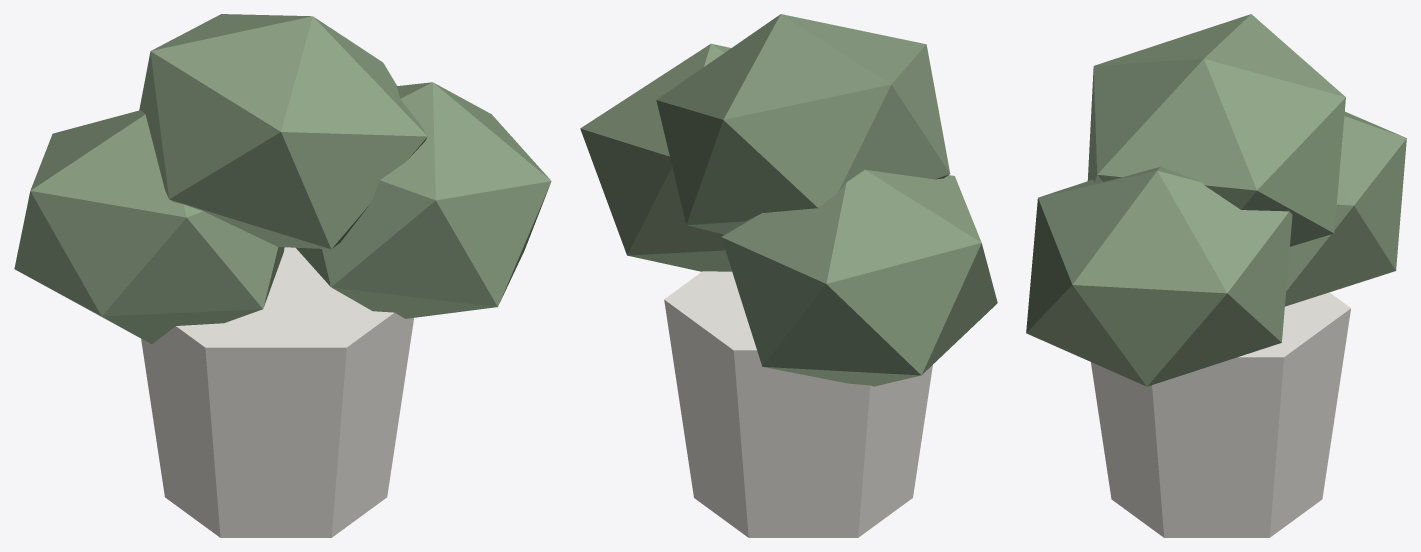
Rendered from plant_small.glb.
The picture shows the model from 3 angles, left to right: view 1: azimuth 30°, elevation 25°; view 2: azimuth 150°, elevation 25°; view 3: azimuth 270°, elevation 25°; orthographic projection. The views are drawn at different scales.
Visible parts, largest first — view 1: plant_small; view 2: plant_small; view 3: plant_small.
Boxes of the visible parts, bbox=[...] form: plant_small: bbox=[14, 14, 551, 537]; plant_small: bbox=[580, 14, 997, 537]; plant_small: bbox=[1026, 14, 1406, 537].
Size of the model in its own units: 0.2483 by 0.2615 by 0.1986.
